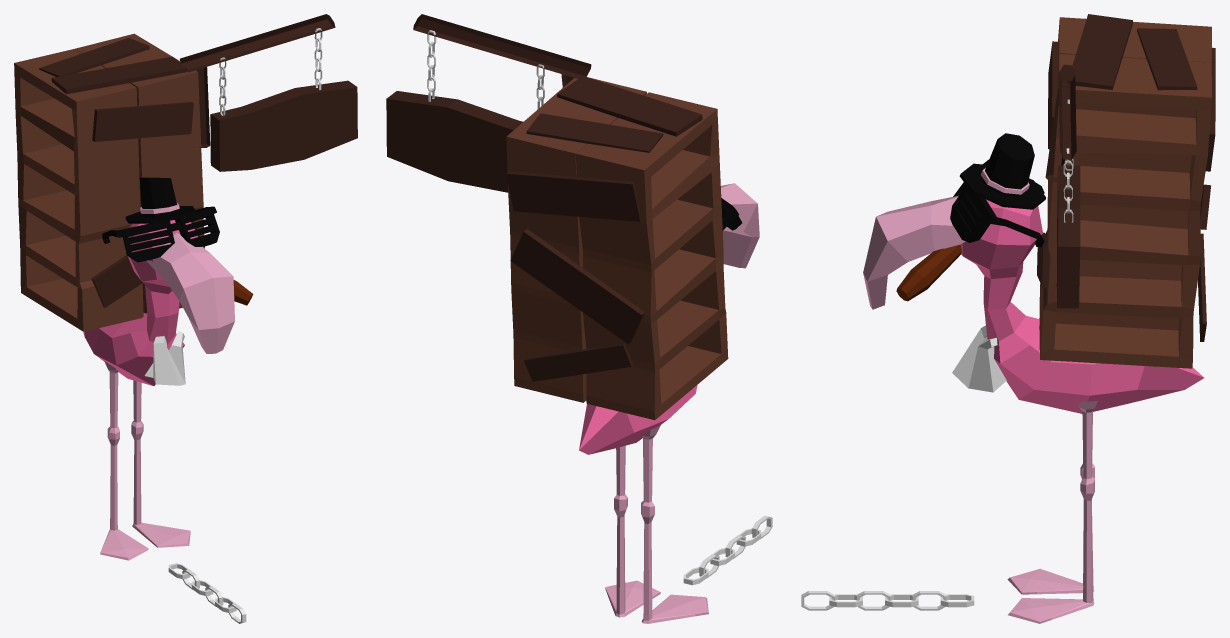
The model's file is flamingo.fbx.
The picture shows the model from 3 angles, left to right: view 1: azimuth 30°, elevation 25°; view 2: azimuth 150°, elevation 25°; view 3: azimuth 270°, elevation 25°; orthographic projection. The views are drawn at different scales.
Parts seen in each view (by area): view 1: Cube.004, Cube.005, Cube, Cube.001, Circle.003, Plane.007, Cube.002, Circle.005, Plane.001, Circle, Plane.002, Plane (+3 smaller); view 2: Cube.004, Cube.005, Circle.003, Plane.004, Plane.003, Plane.001, Circle.005, Cube, Plane.002, Plane.006, Cube.001, Cube.006; view 3: Cube.004, Cube, Cube.001, Circle.003, Circle, Plane.001, Cube.005, Plane.002, Cube.002, Cube.006, Plane, Circle.002 (+4 smaller).
Boxes of the visible parts, <box> form: Cube.004: <box>14,33,204,331</box>; Cube.005: <box>210,80,357,171</box>; Cube: <box>83,220,197,385</box>; Cube.001: <box>146,233,234,353</box>; Circle.003: <box>100,361,190,560</box>; Plane.007: <box>92,102,193,141</box>; Cube.002: <box>102,206,219,262</box>; Circle.005: <box>180,14,335,72</box>; Plane.001: <box>51,56,186,94</box>; Circle: <box>125,177,195,223</box>; Plane.002: <box>39,38,149,76</box>; Plane: <box>144,330,185,385</box>; Cube.004: <box>506,77,728,419</box>; Cube.005: <box>386,91,523,192</box>; Circle.003: <box>605,425,708,623</box>; Plane.004: <box>510,229,644,344</box>; Plane.003: <box>506,171,641,221</box>; Plane.001: <box>557,76,702,136</box>; Circle.005: <box>413,14,591,78</box>; Cube: <box>579,385,697,454</box>; Plane.002: <box>526,113,663,152</box>; Plane.006: <box>524,343,632,381</box>; Cube.001: <box>721,183,759,268</box>; Cube.006: <box>683,515,772,585</box>; Cube.004: <box>1039,17,1211,368</box>; Cube: <box>960,199,1204,413</box>; Cube.001: <box>863,195,965,309</box>; Circle.003: <box>1007,400,1097,623</box>; Circle: <box>959,133,1045,209</box>; Plane.001: <box>1067,14,1132,89</box>; Cube.005: <box>1056,165,1080,308</box>; Plane.002: <box>1137,28,1197,90</box>; Cube.002: <box>950,159,1044,247</box>; Cube.006: <box>801,591,974,610</box>; Plane: <box>952,325,1006,392</box>; Circle.002: <box>896,244,961,301</box>.
Size of the model in its own units: 695 by 1136 by 733.
